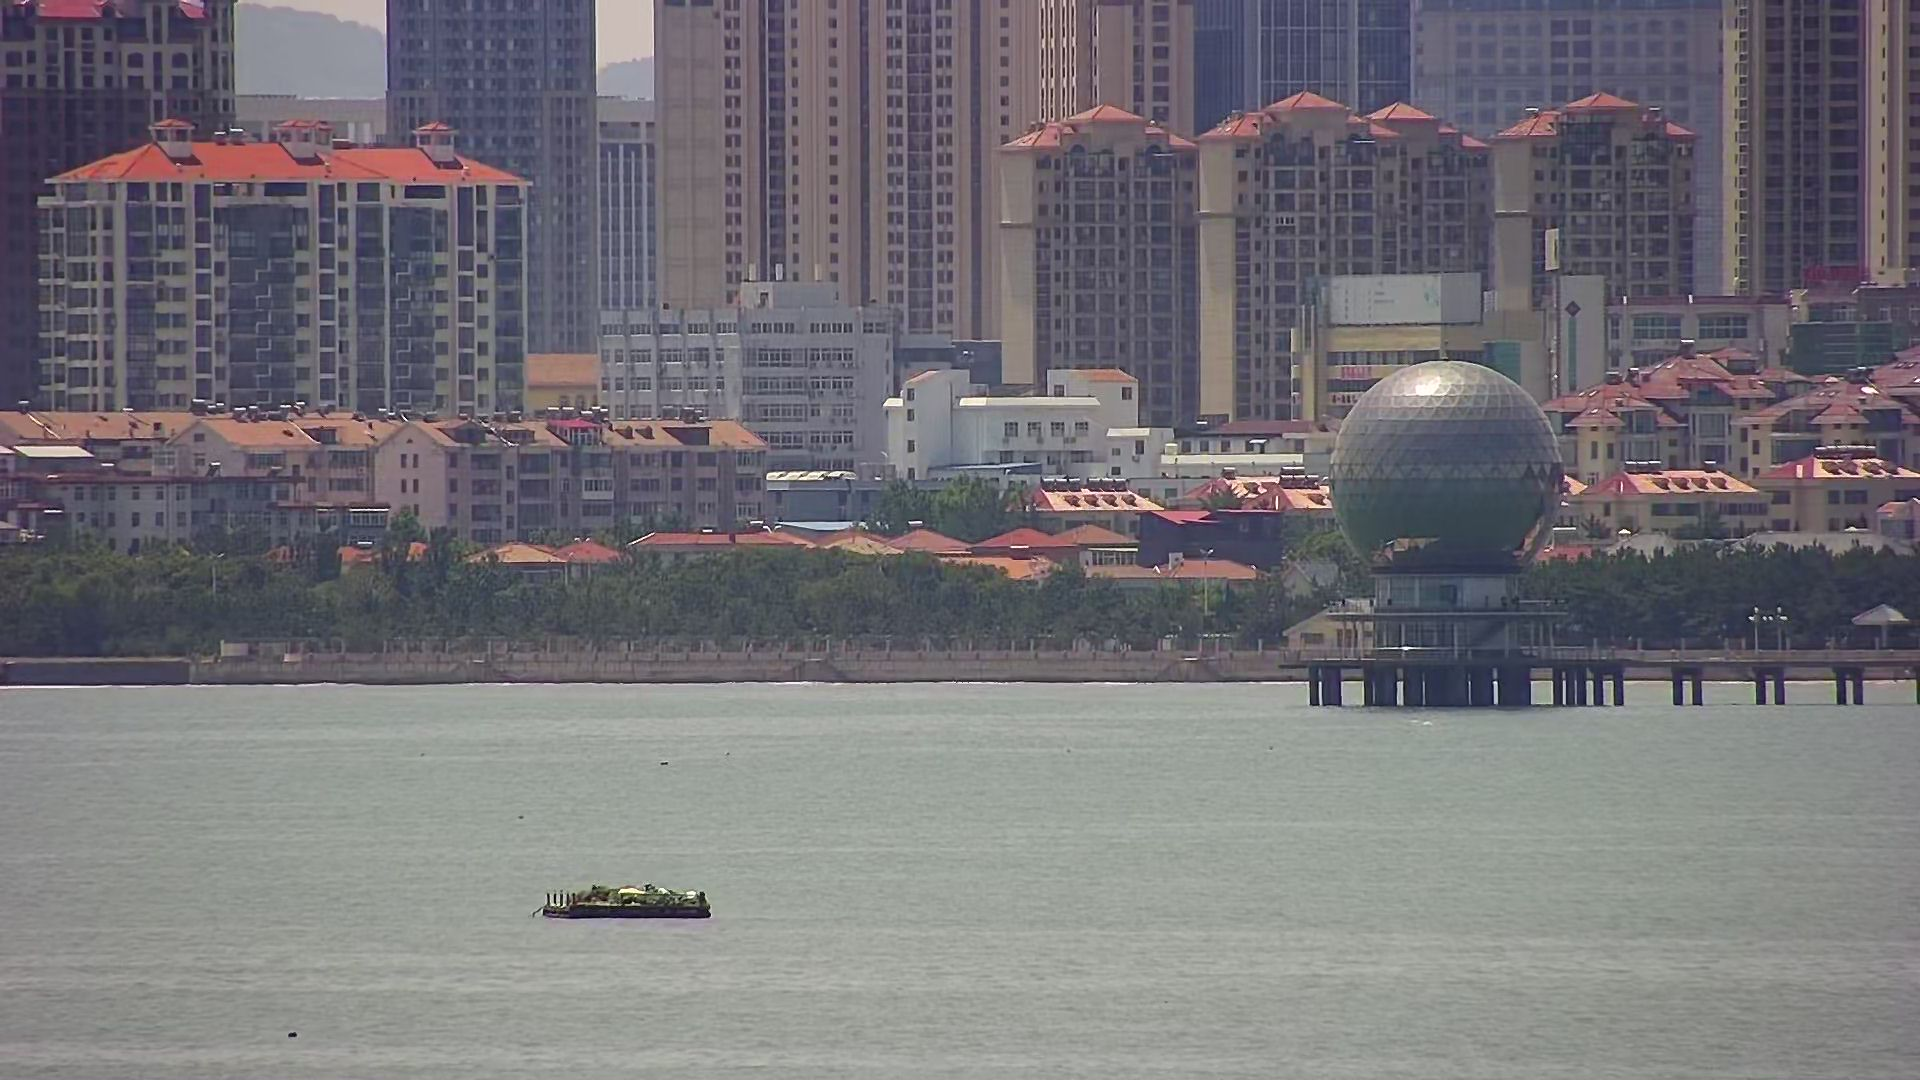bridge: (1280, 651, 1920, 716)
platform: (533, 876, 717, 927)
